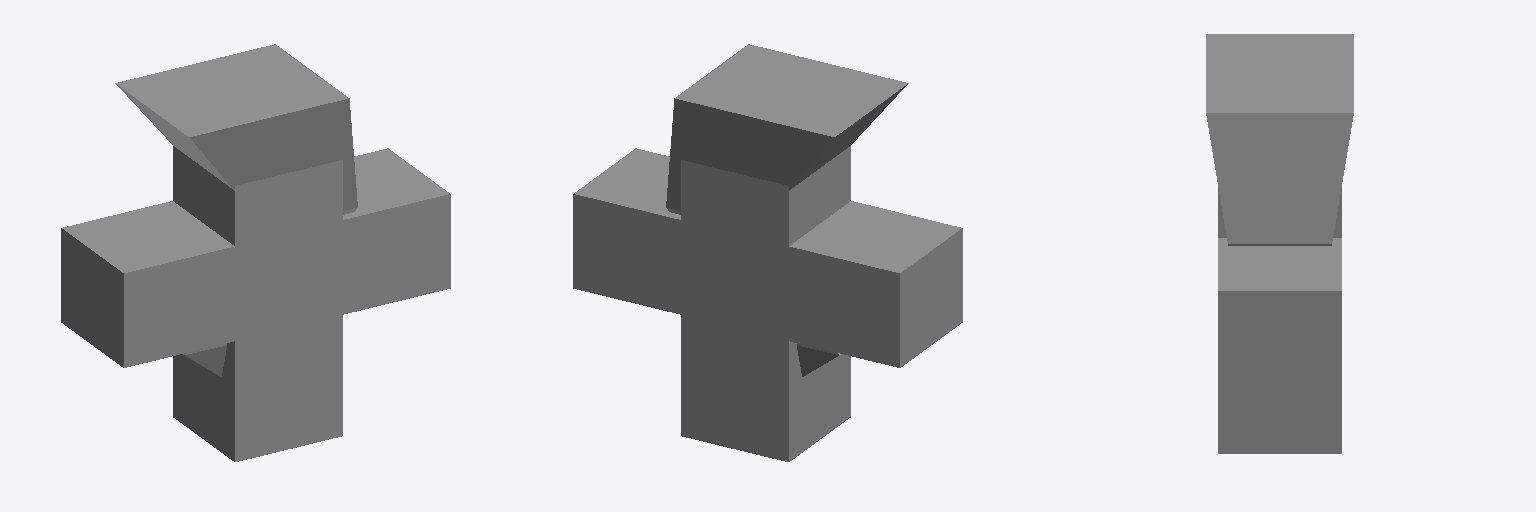
Rendered from rayito.obj.
3 renders of one model, left to right at view 1: azimuth 30°, elevation 25°; view 2: azimuth 150°, elevation 25°; view 3: azimuth 270°, elevation 25°, orthographic.
Parts seen in each view (by area): view 1: Cube.001, Cube; view 2: Cube.001, Cube; view 3: Cube, Cube.001.
Part boxes in pixels (bbox=[...]): Cube.001: bbox=[61, 146, 450, 461]; Cube: bbox=[115, 44, 357, 376]; Cube.001: bbox=[573, 146, 962, 461]; Cube: bbox=[666, 44, 908, 376]; Cube: bbox=[1206, 34, 1353, 245]; Cube.001: bbox=[1218, 188, 1341, 453].
Size of the model in its own units: 1.38 by 1.38 by 0.5418.